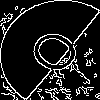O: (24, 25, 93, 84)
